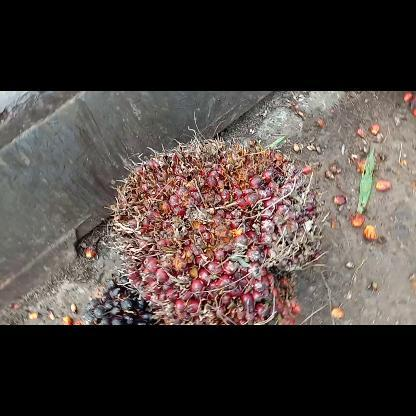TBS abnormal: (80, 272, 166, 324)
TBS masak: (109, 134, 322, 324)
